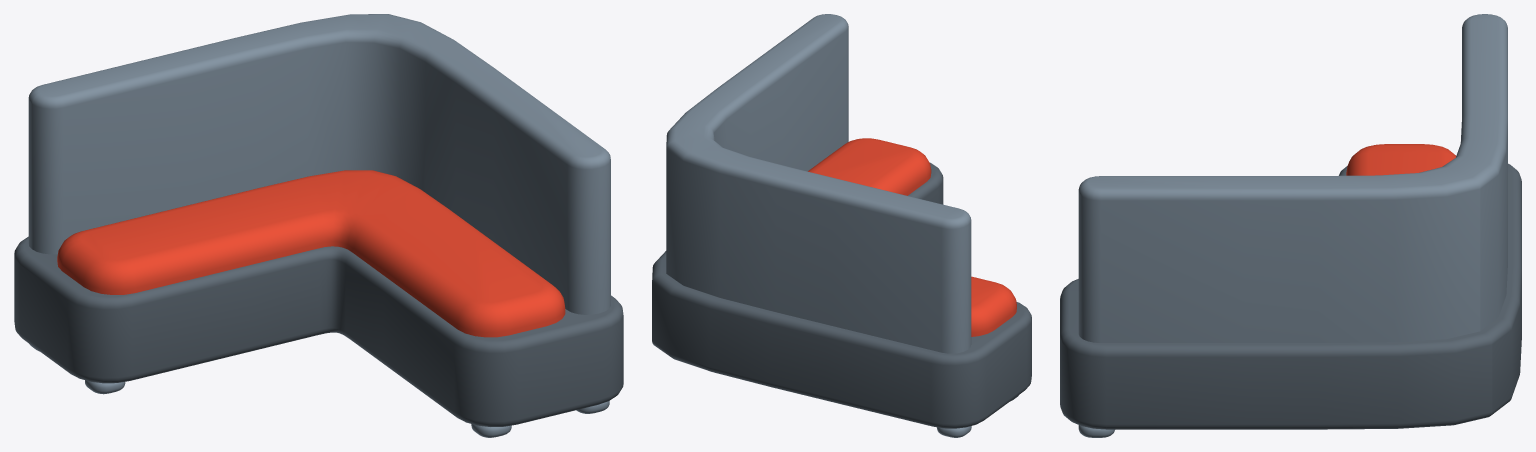
File: Corner_Couch.fbx
The picture shows the model from 3 angles, left to right: view 1: azimuth 30°, elevation 25°; view 2: azimuth 150°, elevation 25°; view 3: azimuth 270°, elevation 25°; orthographic projection. The views are drawn at different scales.
Visible parts, largest first — view 1: Corner Couch; view 2: Corner Couch; view 3: Corner Couch.
Part boxes in pixels (x1,y1,x2,y2): Corner Couch: [14, 14, 623, 437]; Corner Couch: [652, 14, 1031, 437]; Corner Couch: [1060, 14, 1521, 437].
Bounding box in the file's own units: 250 × 150 × 250.
